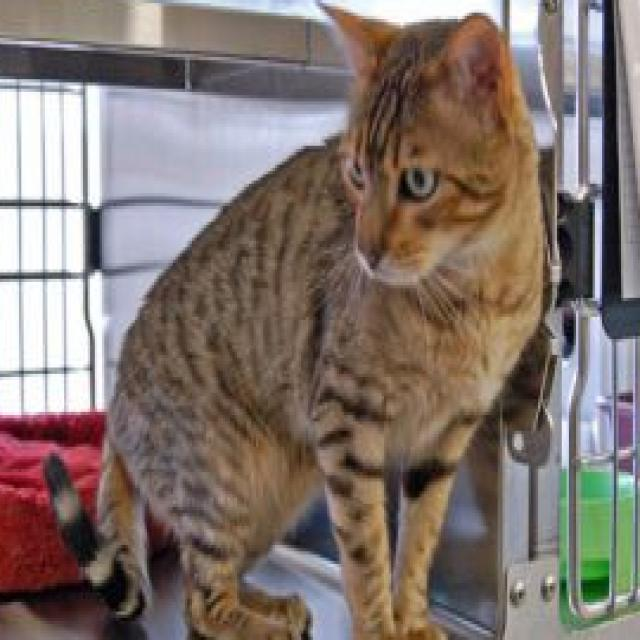Bengal: (40, 0, 555, 640)
